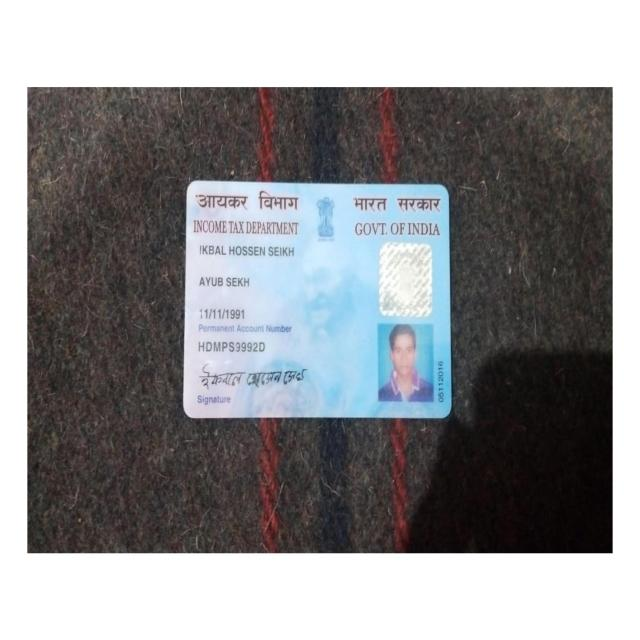pan_card: (187, 186, 447, 418)
